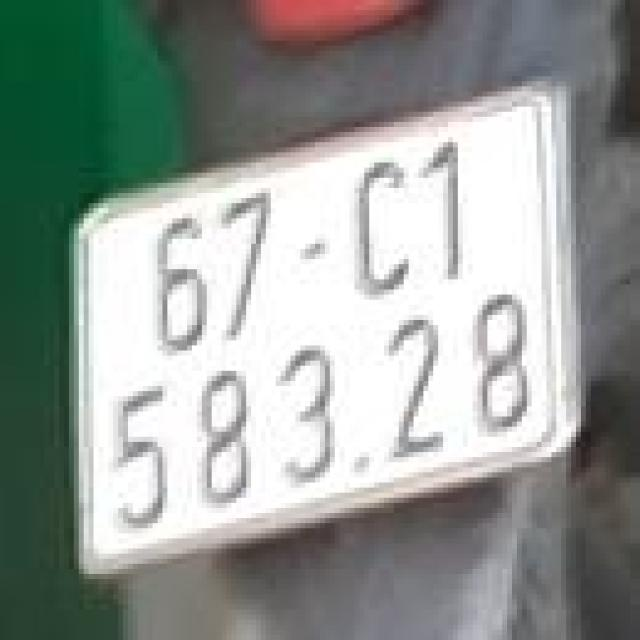1: (418, 137, 478, 295)
2: (372, 312, 451, 465)
3: (273, 343, 342, 485)
5: (106, 381, 170, 533)
6: (145, 200, 217, 365)
7: (214, 190, 283, 343)
8: (458, 284, 536, 437), (192, 361, 266, 508)
C: (344, 155, 424, 307)
